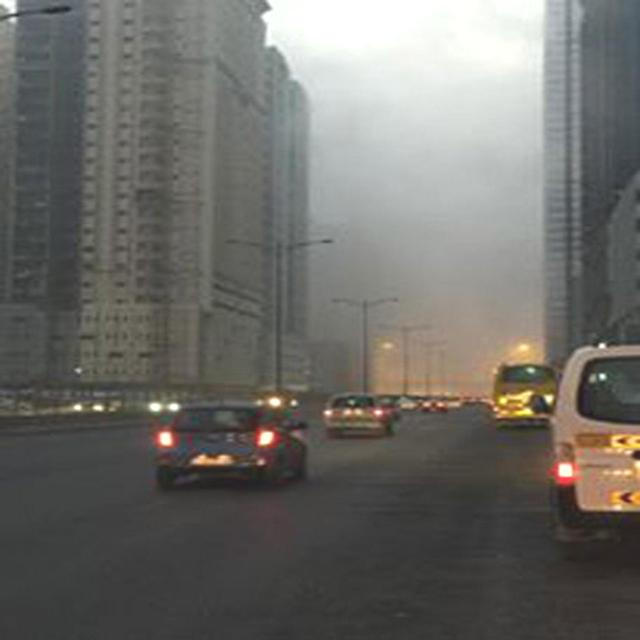Car: (156, 417, 310, 494), (322, 390, 404, 437)
Van: (530, 345, 640, 543)
